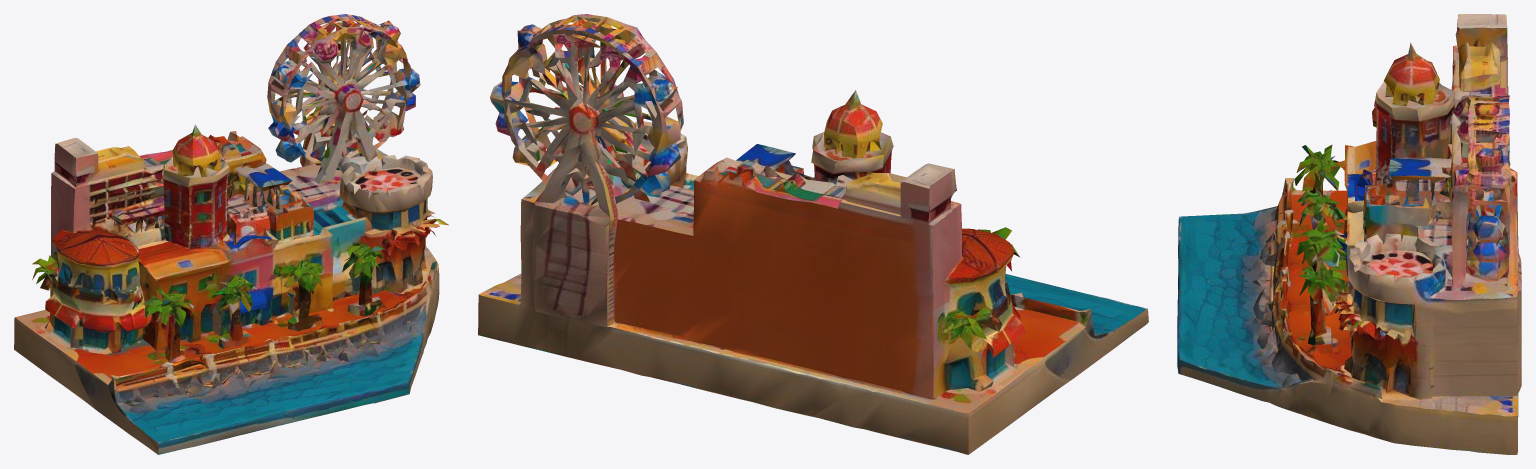
File: chatan-american-village.glb
The picture shows the model from 3 angles, left to right: view 1: azimuth 30°, elevation 25°; view 2: azimuth 150°, elevation 25°; view 3: azimuth 270°, elevation 25°; orthographic projection. The views are drawn at different scales.
Parts seen in each view (by area): view 1: logan-textured.obj; view 2: logan-textured.obj; view 3: logan-textured.obj.
Part boxes in pixels (left/top/right/bottom): logan-textured.obj: left=14, top=14, right=448, bottom=454; logan-textured.obj: left=478, top=14, right=1148, bottom=454; logan-textured.obj: left=1177, top=14, right=1521, bottom=454.
Bounding box in the file's own units: 1 × 0.6347 × 0.6461.
Materials: 1 (1 with a texture image).
